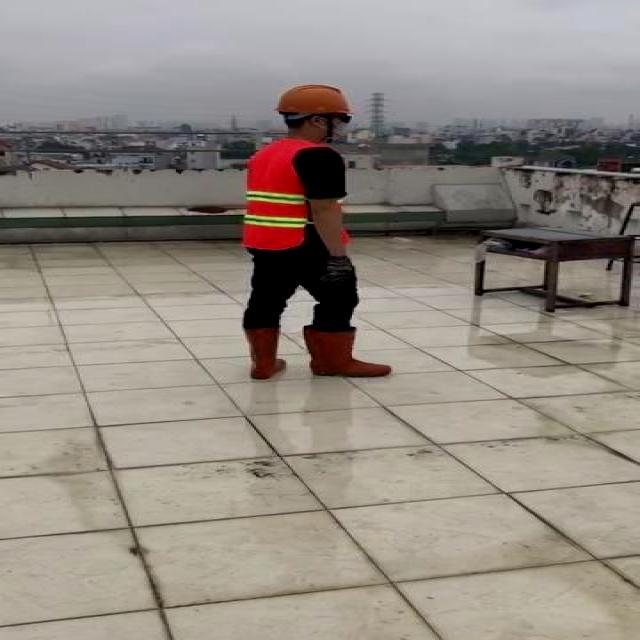boots: (303, 327, 397, 378), (242, 324, 284, 379)
face_mask: (310, 112, 356, 140)
hand_glove: (320, 256, 354, 285)
head_helmet: (274, 82, 354, 117)
person: (228, 75, 398, 381)
vest: (245, 138, 315, 250)
